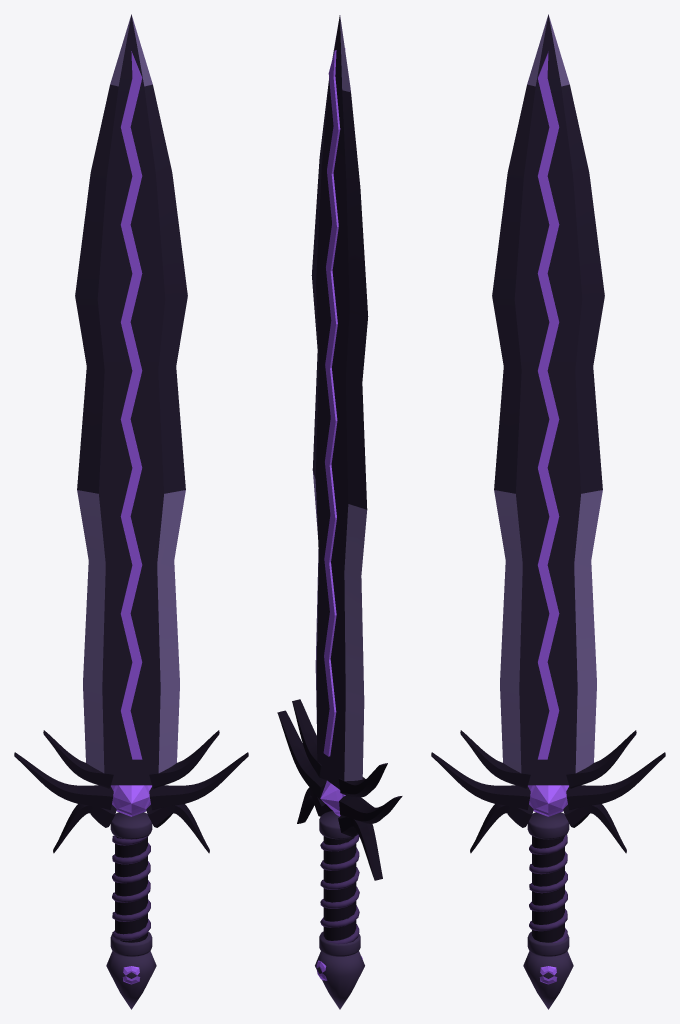
The model's file is sword_void.fbx.
3 views of the same model, side by side, from view 1: azimuth 90°, elevation 25°; view 2: azimuth 210°, elevation 25°; view 3: azimuth 270°, elevation 25° (orthographic).
Visible parts, largest first — view 1: sword_void; view 2: sword_void; view 3: sword_void.
Part boxes in pixels (bbox=[...]): sword_void: bbox=[14, 14, 248, 1009]; sword_void: bbox=[277, 15, 402, 1009]; sword_void: bbox=[431, 14, 665, 1009].
Size of the model in its own units: 0.052 by 1.13 by 0.241.
